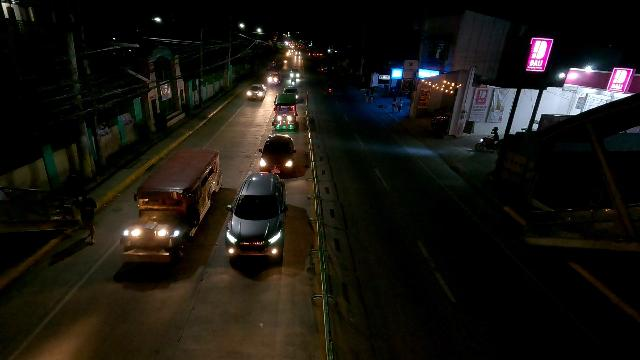car: (221, 173, 289, 263), (258, 133, 295, 177), (282, 86, 300, 104), (247, 83, 266, 100), (289, 69, 301, 79)
jeepney: (117, 144, 223, 264), (273, 93, 298, 131), (266, 71, 281, 86)
motorcycle: (326, 82, 334, 97), (290, 77, 297, 87)
